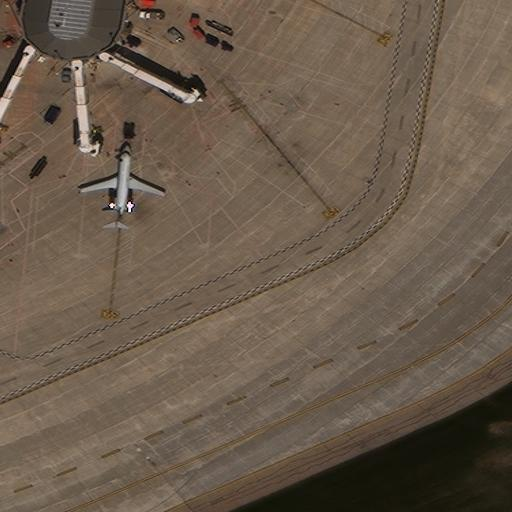Medium Civil Transport: (79, 144, 164, 227)
